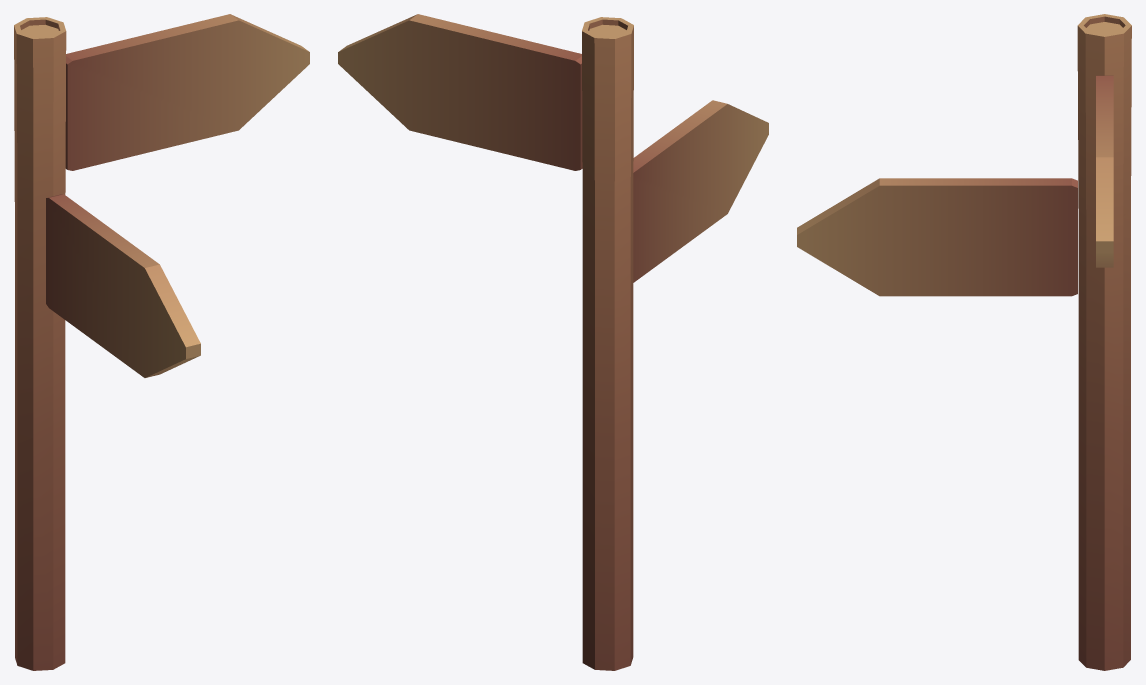
Rendered from LogRoadSign1.fbx.
The picture shows the model from 3 angles, left to right: view 1: azimuth 30°, elevation 25°; view 2: azimuth 150°, elevation 25°; view 3: azimuth 270°, elevation 25°; orthographic projection.
Parts seen in each view (by area): view 1: Cylinder.068; view 2: Cylinder.068; view 3: Cylinder.068.
Boxes of the visible parts, bbox=[...] form: Cylinder.068: bbox=[14, 14, 309, 670]; Cylinder.068: bbox=[338, 14, 768, 670]; Cylinder.068: bbox=[797, 14, 1131, 670].
Size of the model in its own units: 191 by 400 by 191.
